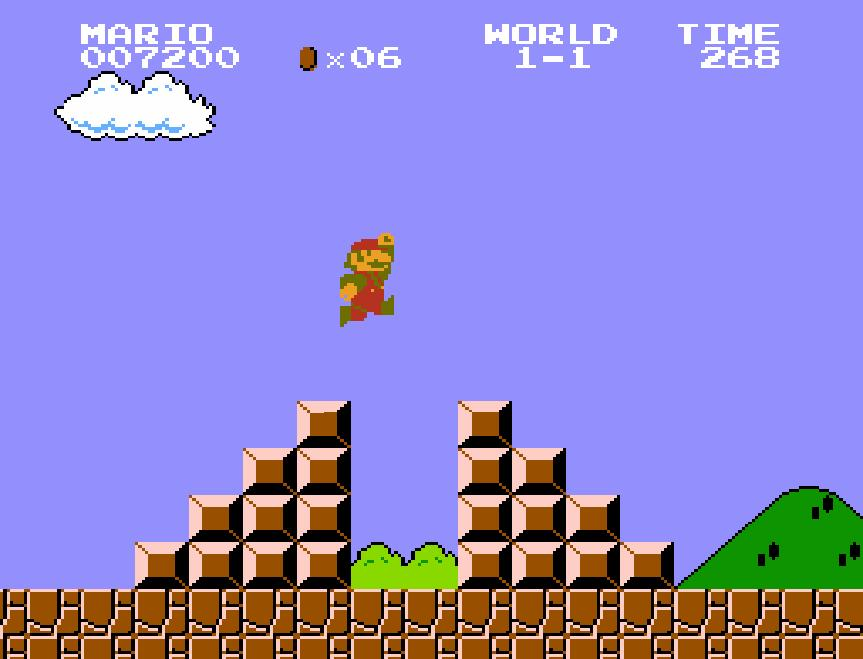big_mario: (338, 230, 396, 328)
